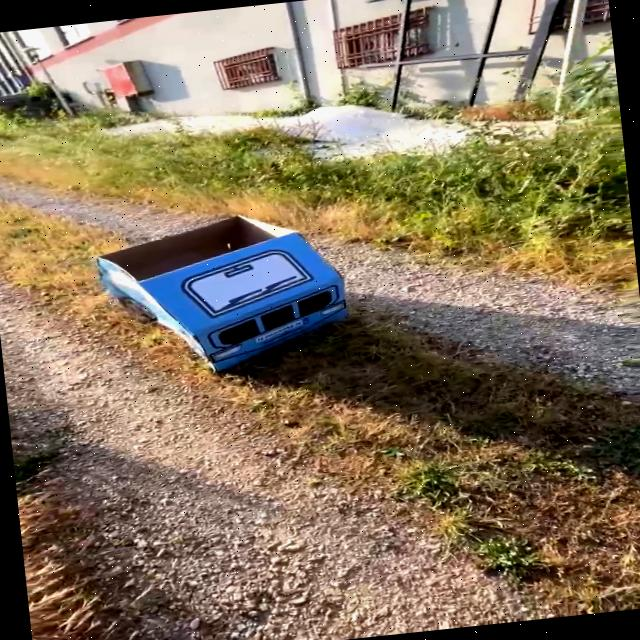blue_car: (55, 180, 393, 409)
